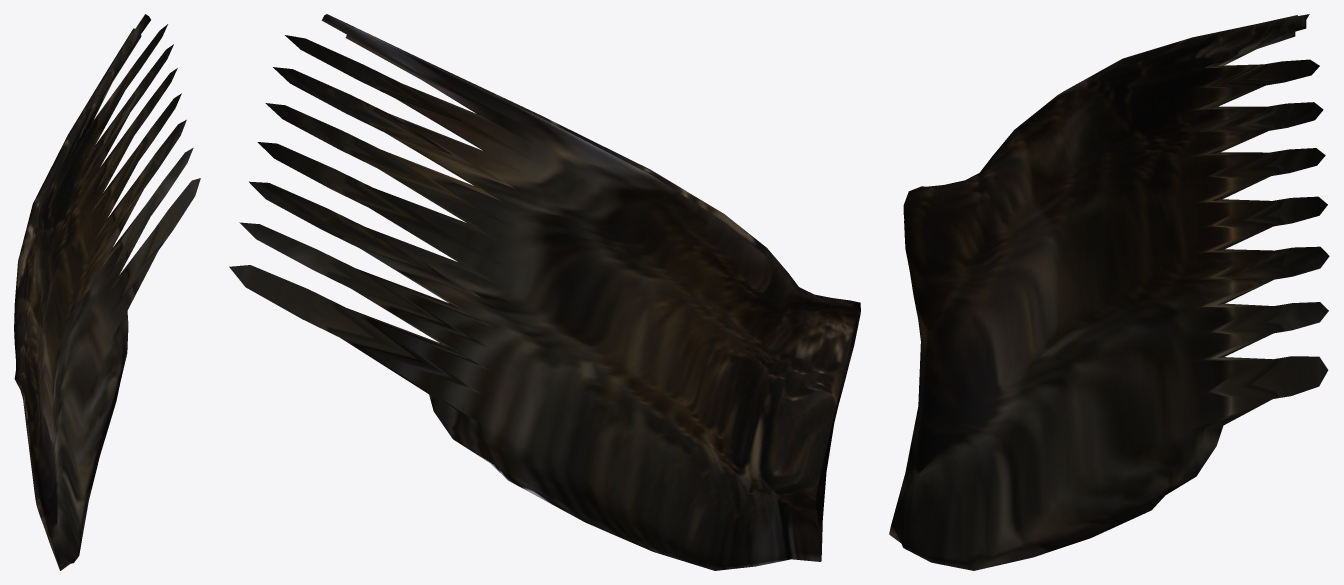
File: wingright.obj
3 renders of one model, left to right at view 1: azimuth 30°, elevation 25°; view 2: azimuth 150°, elevation 25°; view 3: azimuth 270°, elevation 25°, orthographic. The views are drawn at different scales.
Visible parts, largest first — view 1: Flugel.001_Plane.001; view 2: Flugel.001_Plane.001; view 3: Flugel.001_Plane.001.
Boxes of the visible parts, x1,y1,x2,y2 form: Flugel.001_Plane.001: (14, 14, 200, 570); Flugel.001_Plane.001: (229, 14, 860, 570); Flugel.001_Plane.001: (889, 14, 1329, 570).
Size of the model in its own units: 3.85 by 5.01 by 2.88.
1 material, 1 textured.
